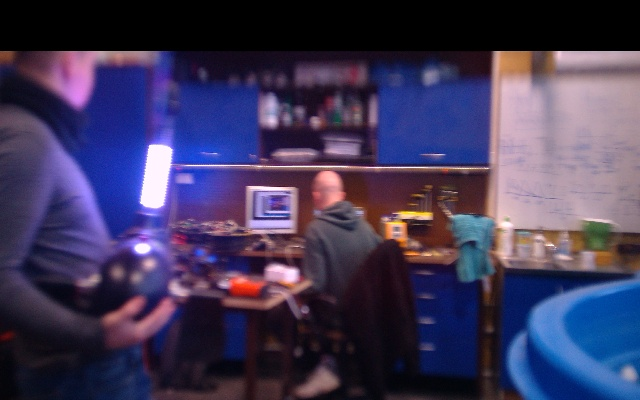white: (139, 146, 172, 211)
